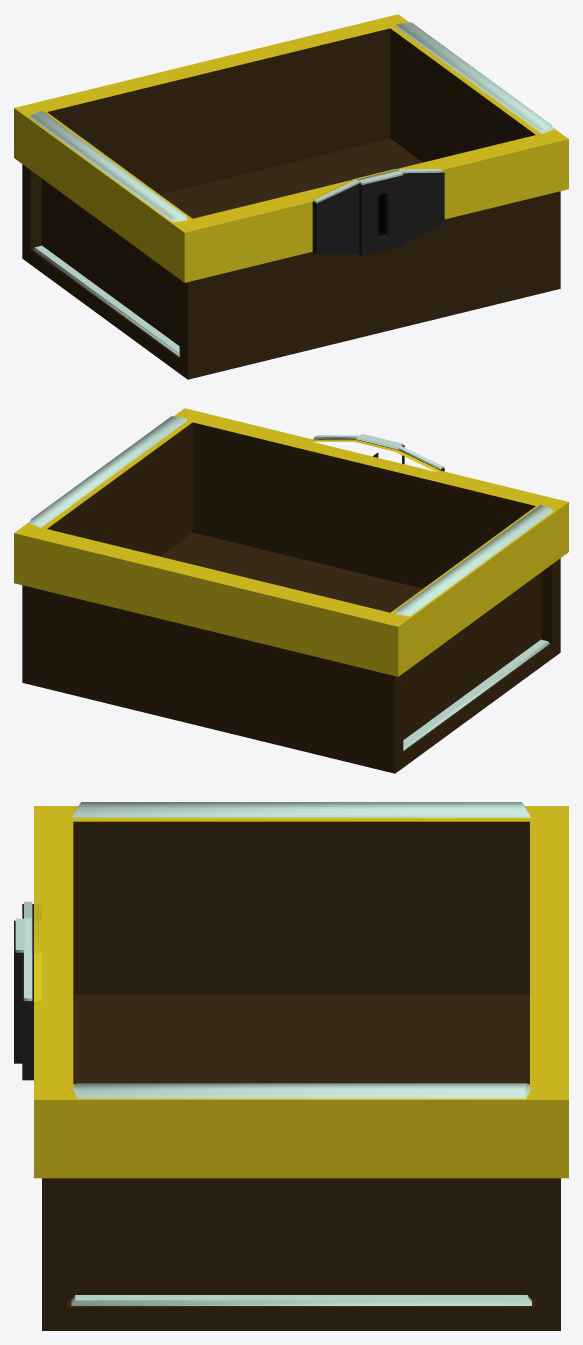
Rendered from winter-chest-bottom.glb.
The picture shows the model from 3 angles, top to bottom: view 1: azimuth 30°, elevation 25°; view 2: azimuth 150°, elevation 25°; view 3: azimuth 270°, elevation 25°; orthographic projection. The views are drawn at different scales.
Visible parts, largest first — view 1: WinterChestBottom; view 2: WinterChestBottom; view 3: WinterChestBottom.
Boxes of the visible parts, box(x1,y1,x2,y2) form: WinterChestBottom: box(14, 14, 568, 379); WinterChestBottom: box(14, 408, 568, 773); WinterChestBottom: box(14, 802, 568, 1330).
Size of the model in its own units: 118 by 47.62 by 94.3.
1 material, 1 textured.
